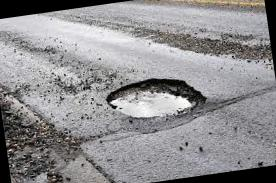pothole: (101, 69, 206, 131)
